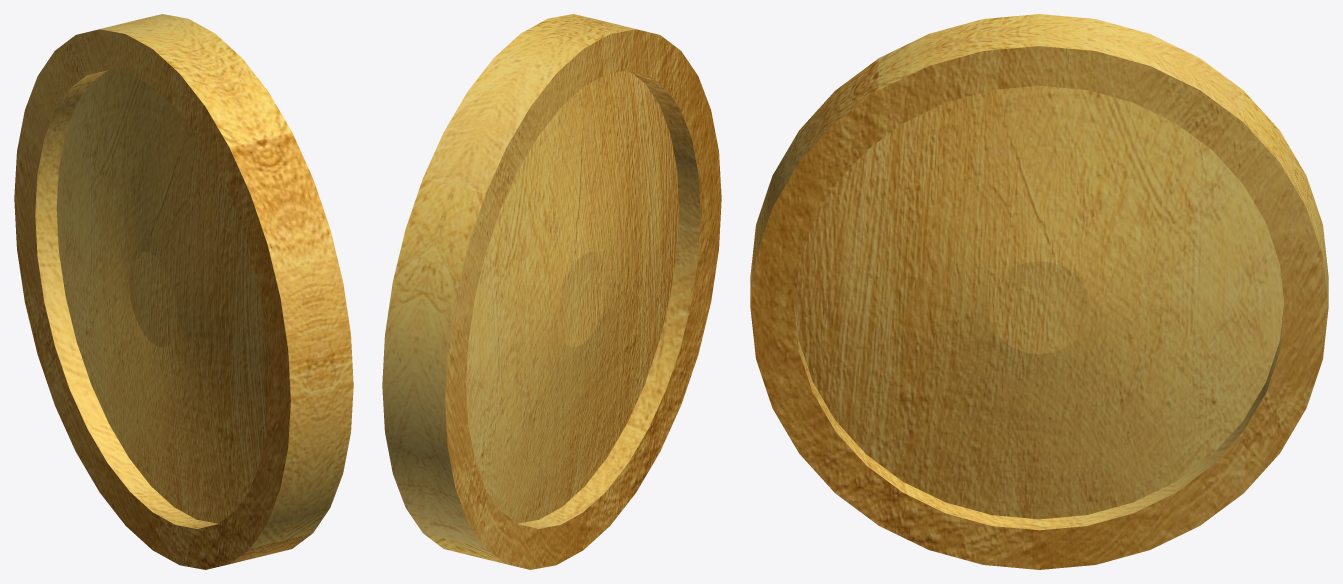
Rendered from Coin.obj.
3 renders of one model, left to right at view 1: azimuth 30°, elevation 25°; view 2: azimuth 150°, elevation 25°; view 3: azimuth 270°, elevation 25°, orthographic. The views are drawn at different scales.
Parts seen in each view (by area): view 1: Circle; view 2: Circle; view 3: Circle.
Part boxes in pixels (x1,y1,x2,y2): Circle: [14, 14, 353, 569]; Circle: [382, 14, 721, 569]; Circle: [750, 14, 1328, 569].
Bounding box in the file's own units: 0.2621 × 2 × 2.
1 material, 1 textured.
